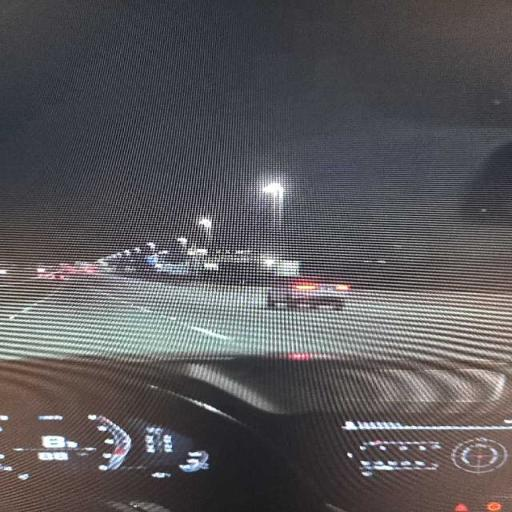car: (267, 277, 351, 309), (36, 272, 66, 280)
lane: (0, 279, 511, 361)
